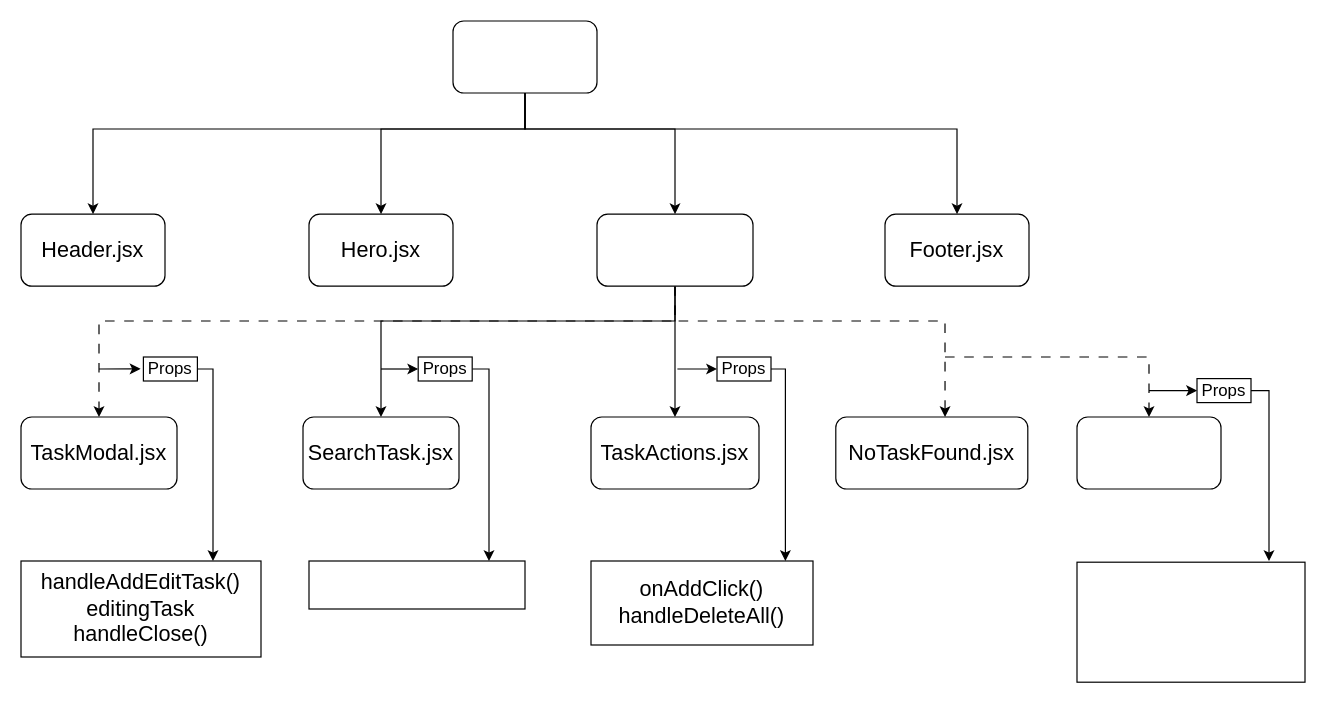
This 1326x703 diagram has some shape labels left out. The centre of each missing label's shape, as x and y in pixels:
"App.jsx" belongs at point (524, 56).
"handleSearch()" belongs at point (416, 584).
"TaskBord.jsx" belongs at point (674, 249).
"TaskList.jsx" belongs at point (1148, 452).
"tasks handleEditTask() handleDelete() handleFavTask()" belongs at point (1190, 621).
